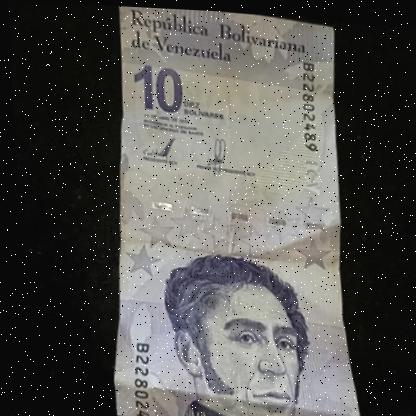ten-front-vef: (79, 3, 363, 416)
